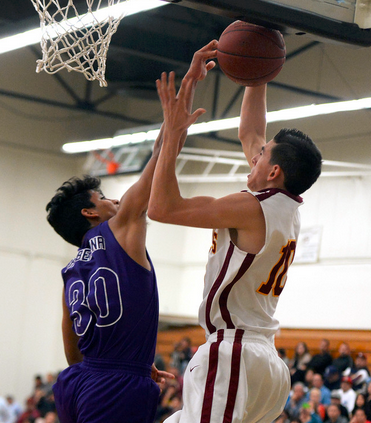ball: (214, 17, 289, 87)
basket: (34, 1, 131, 84)
player: (46, 37, 216, 423), (168, 63, 323, 422)
